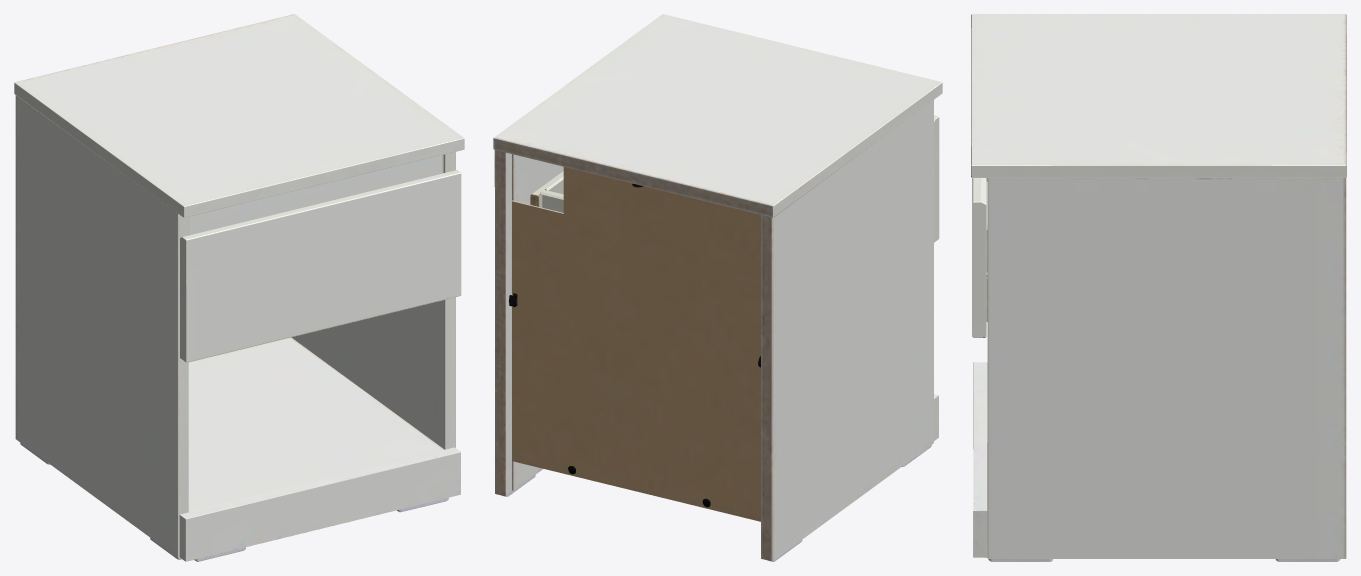
The picture shows the model from 3 angles, left to right: view 1: azimuth 30°, elevation 25°; view 2: azimuth 150°, elevation 25°; view 3: azimuth 270°, elevation 25°; orthographic projection. The views are drawn at different scales.
Visible parts, largest first — view 1: ASY_ART_10567568_S01_NV01, ASY_LPT01_10567568_S01_NV01; view 2: ASY_ART_10567568_S01_NV01, ASY_LPT01_10567568_S01_NV01; view 3: ASY_ART_10567568_S01_NV01, ASY_LPT01_10567568_S01_NV01.
Part boxes in pixels (x1,y1,x2,y2): ASY_ART_10567568_S01_NV01: (14,14,464,561); ASY_LPT01_10567568_S01_NV01: (180,170,461,362); ASY_ART_10567568_S01_NV01: (493,14,942,561); ASY_LPT01_10567568_S01_NV01: (530,115,939,242); ASY_ART_10567568_S01_NV01: (971,14,1346,561); ASY_LPT01_10567568_S01_NV01: (972,178,987,337).
Size of the model in its own units: 0.4 by 0.49 by 0.4189.
Materials: 2 (2 with a texture image).
